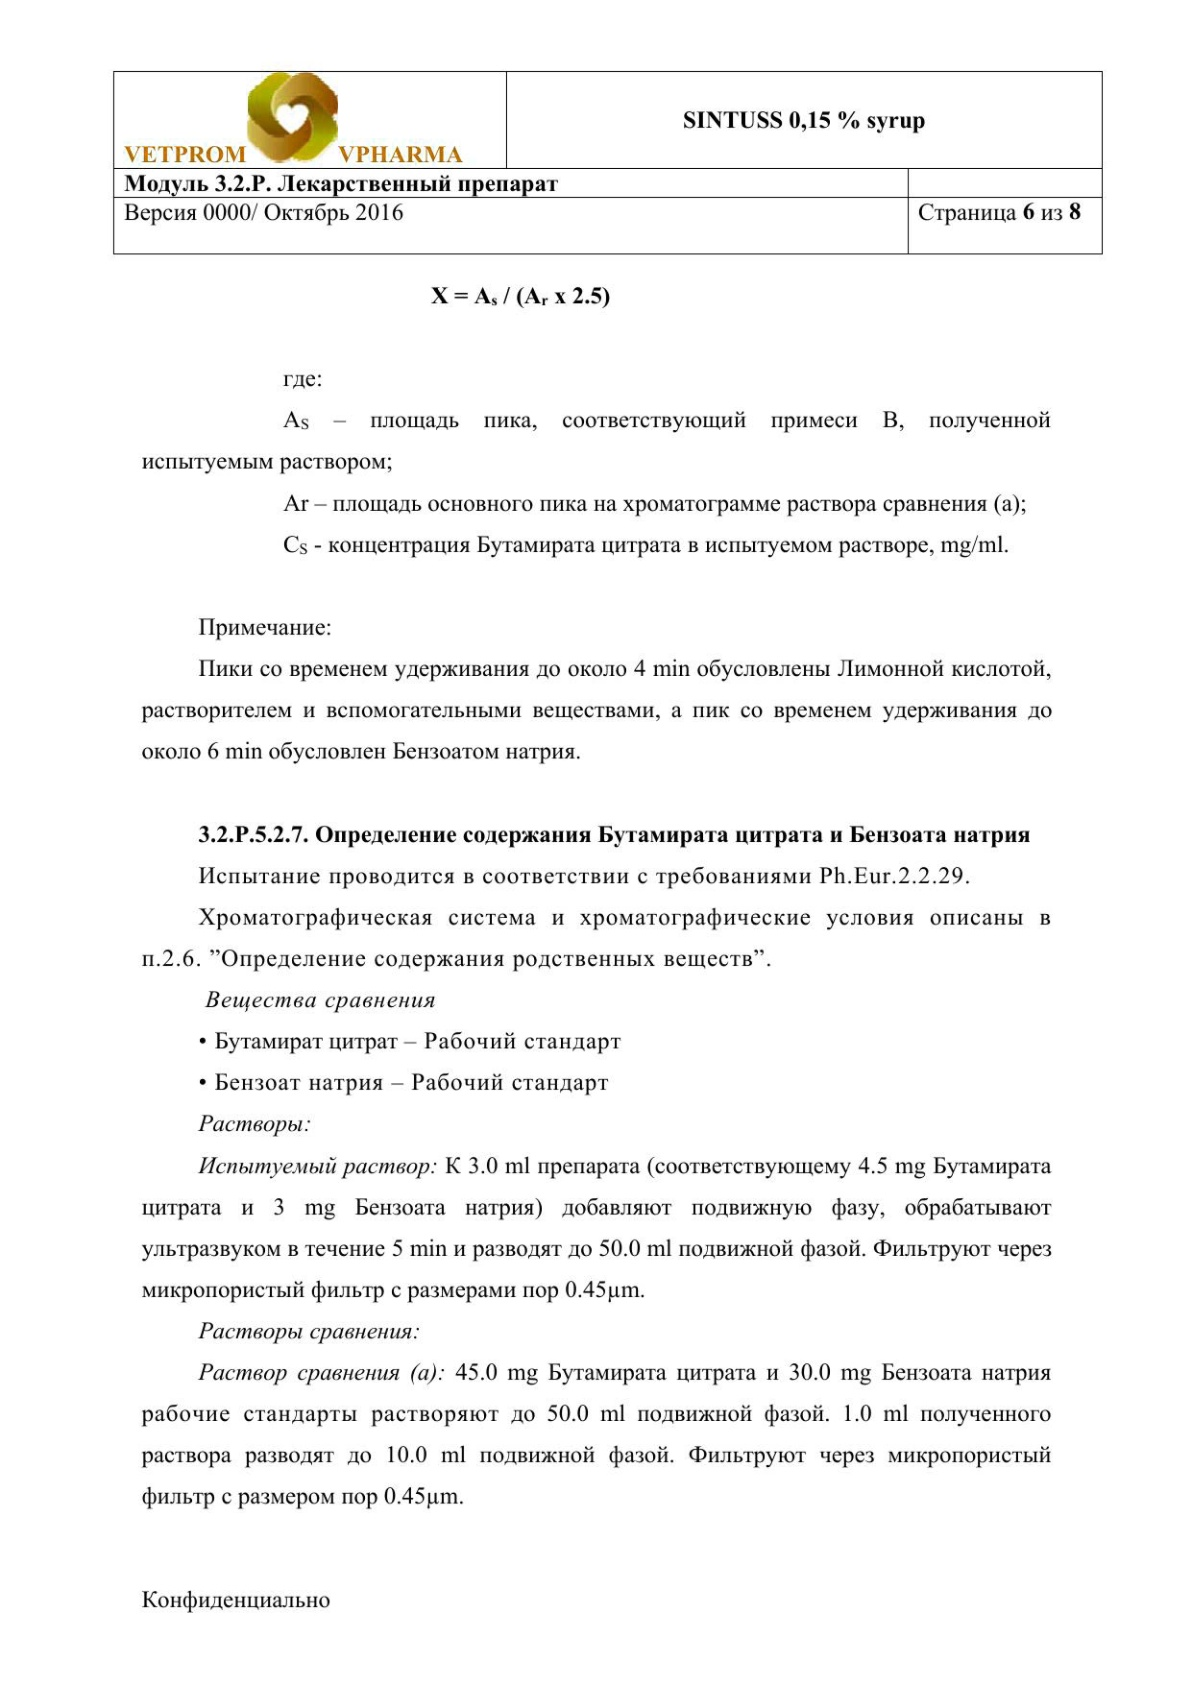merged_cells: (112, 68, 1103, 255)
